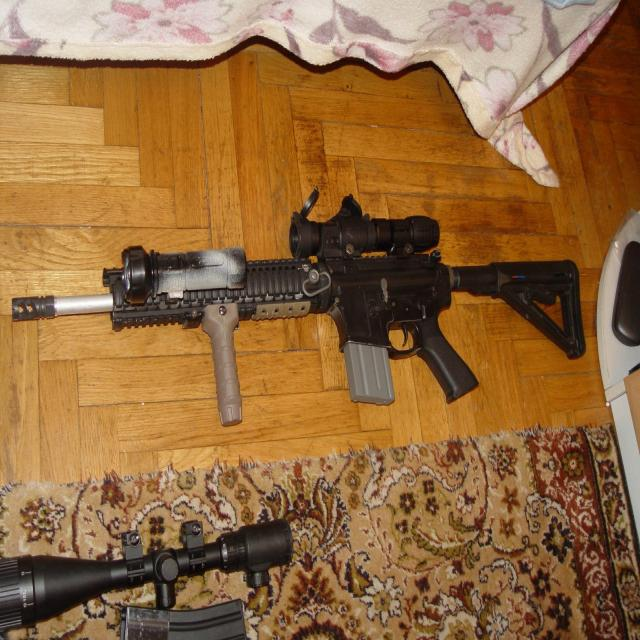firearm: (12, 188, 587, 422)
